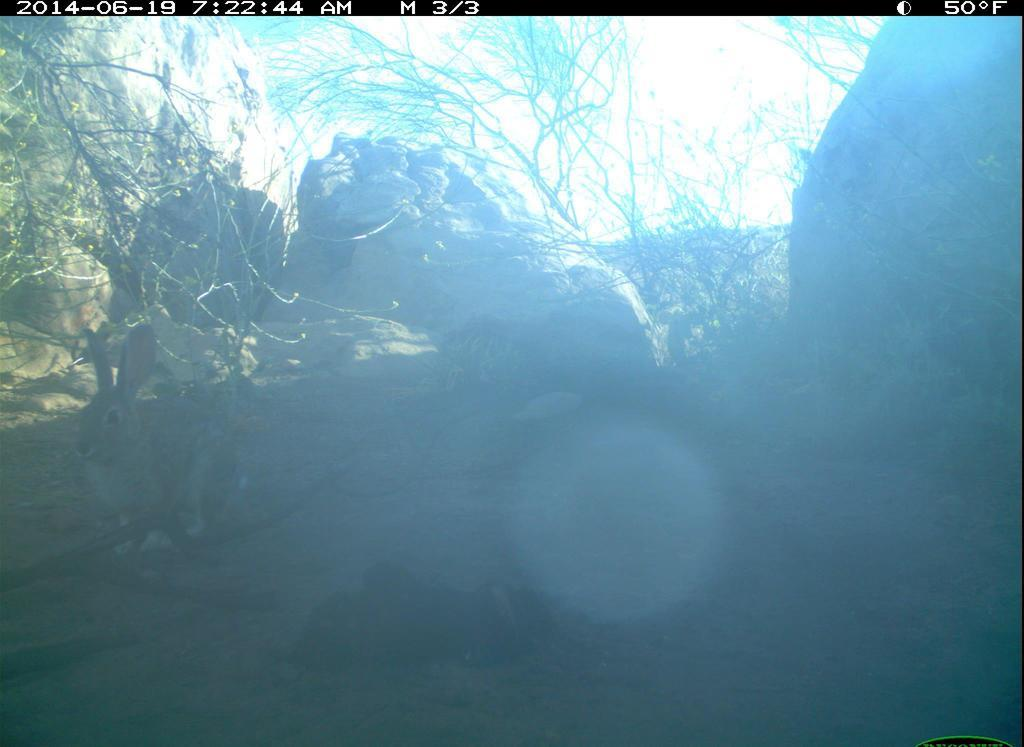rabbit: (67, 323, 250, 548)
